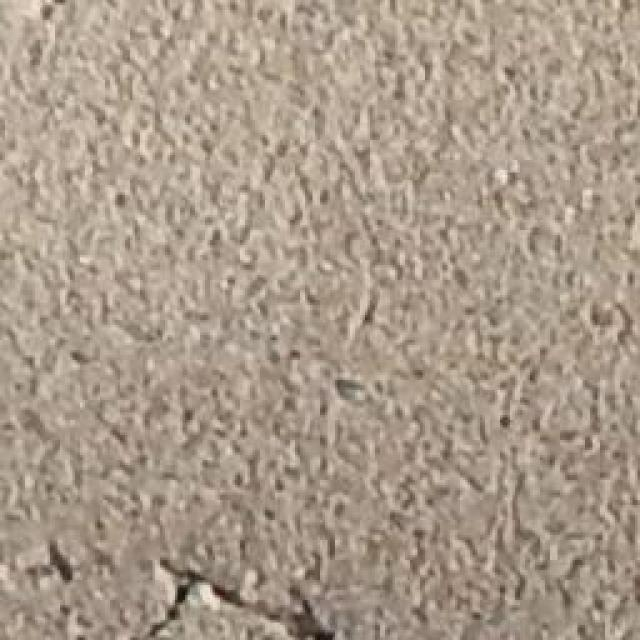concrete-crack: (128, 552, 345, 640)
